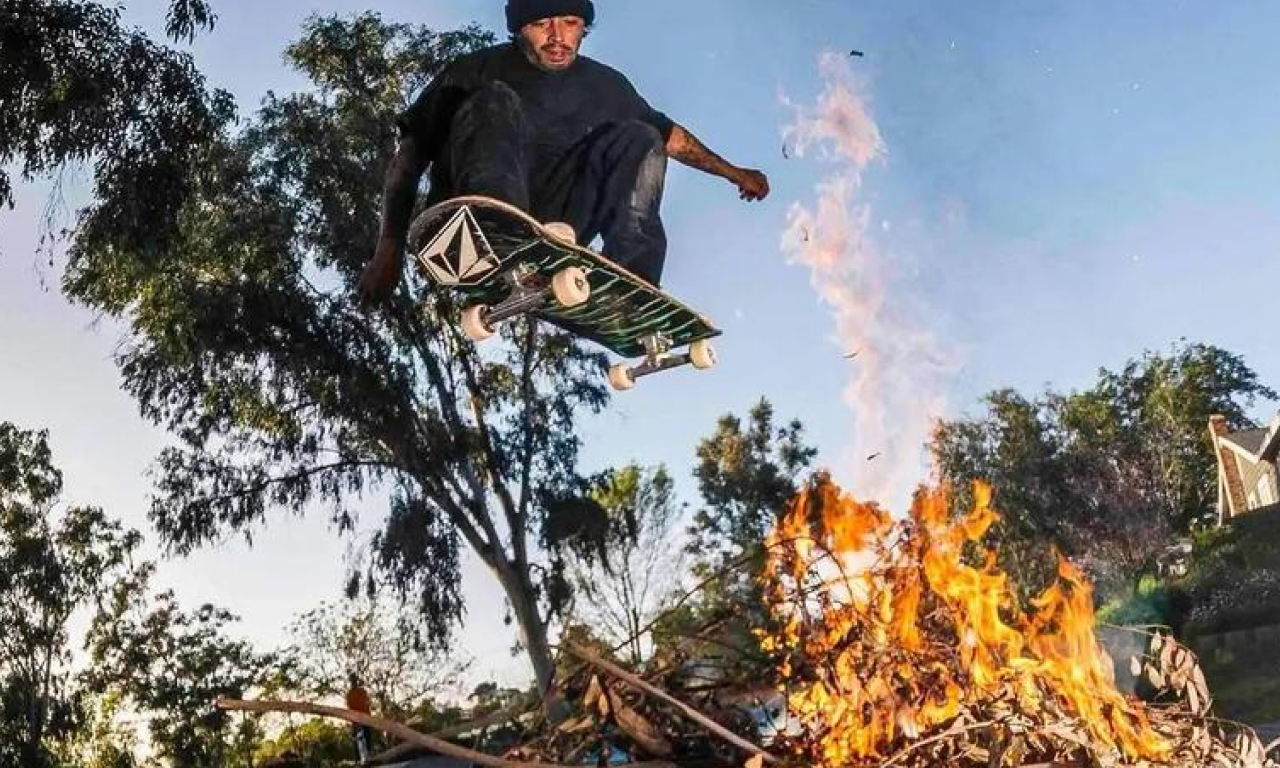fire: (722, 53, 1193, 755)
